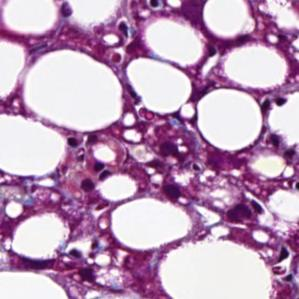inflammation: (140, 135, 189, 206), (60, 246, 97, 287), (78, 160, 114, 195), (222, 198, 268, 225), (108, 17, 133, 66), (260, 91, 287, 114)
